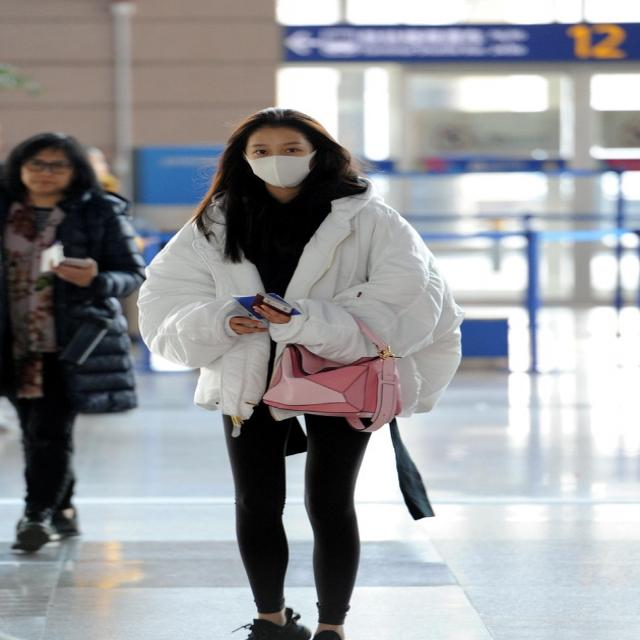mask: (248, 124, 312, 184)
nomask: (21, 146, 68, 194)
